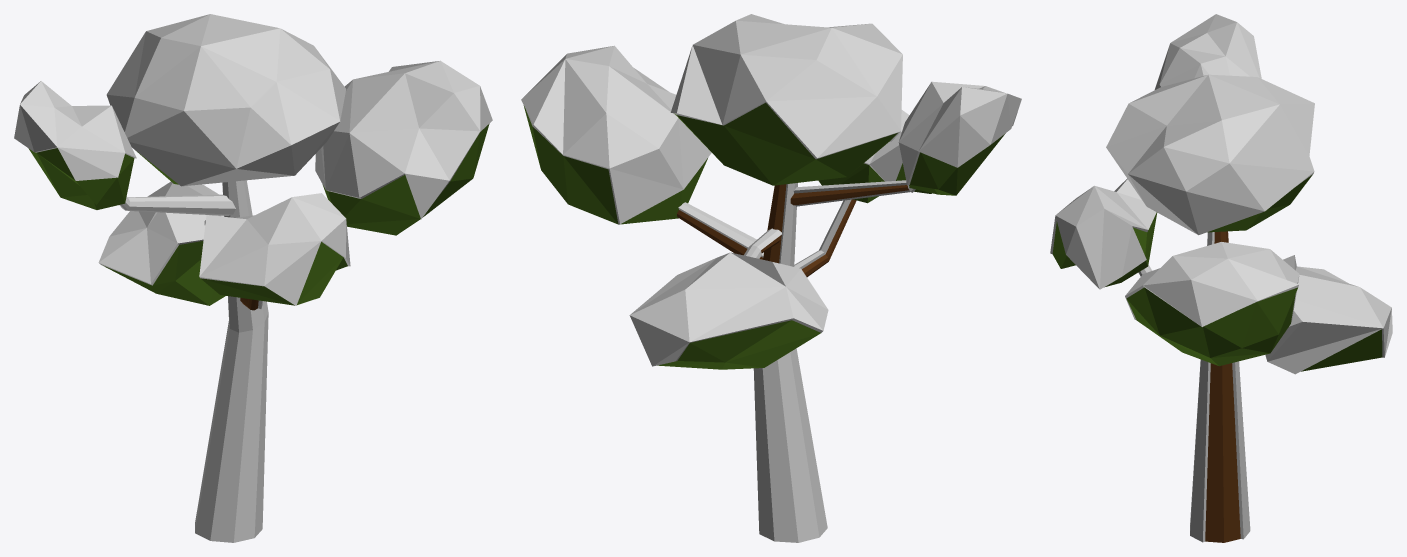
The model's file is Tree_09.fbx.
The picture shows the model from 3 angles, left to right: view 1: azimuth 30°, elevation 25°; view 2: azimuth 150°, elevation 25°; view 3: azimuth 270°, elevation 25°; orthographic projection. The views are drawn at different scales.
Parts seen in each view (by area): view 1: Tree_09; view 2: Tree_09; view 3: Tree_09.
Boxes of the visible parts, left/top/right/bottom form: Tree_09: left=14, top=14, right=492, bottom=542; Tree_09: left=521, top=14, right=1021, bottom=542; Tree_09: left=1050, top=14, right=1392, bottom=542.
Bounding box in the file's own units: 598 × 608 × 427.
